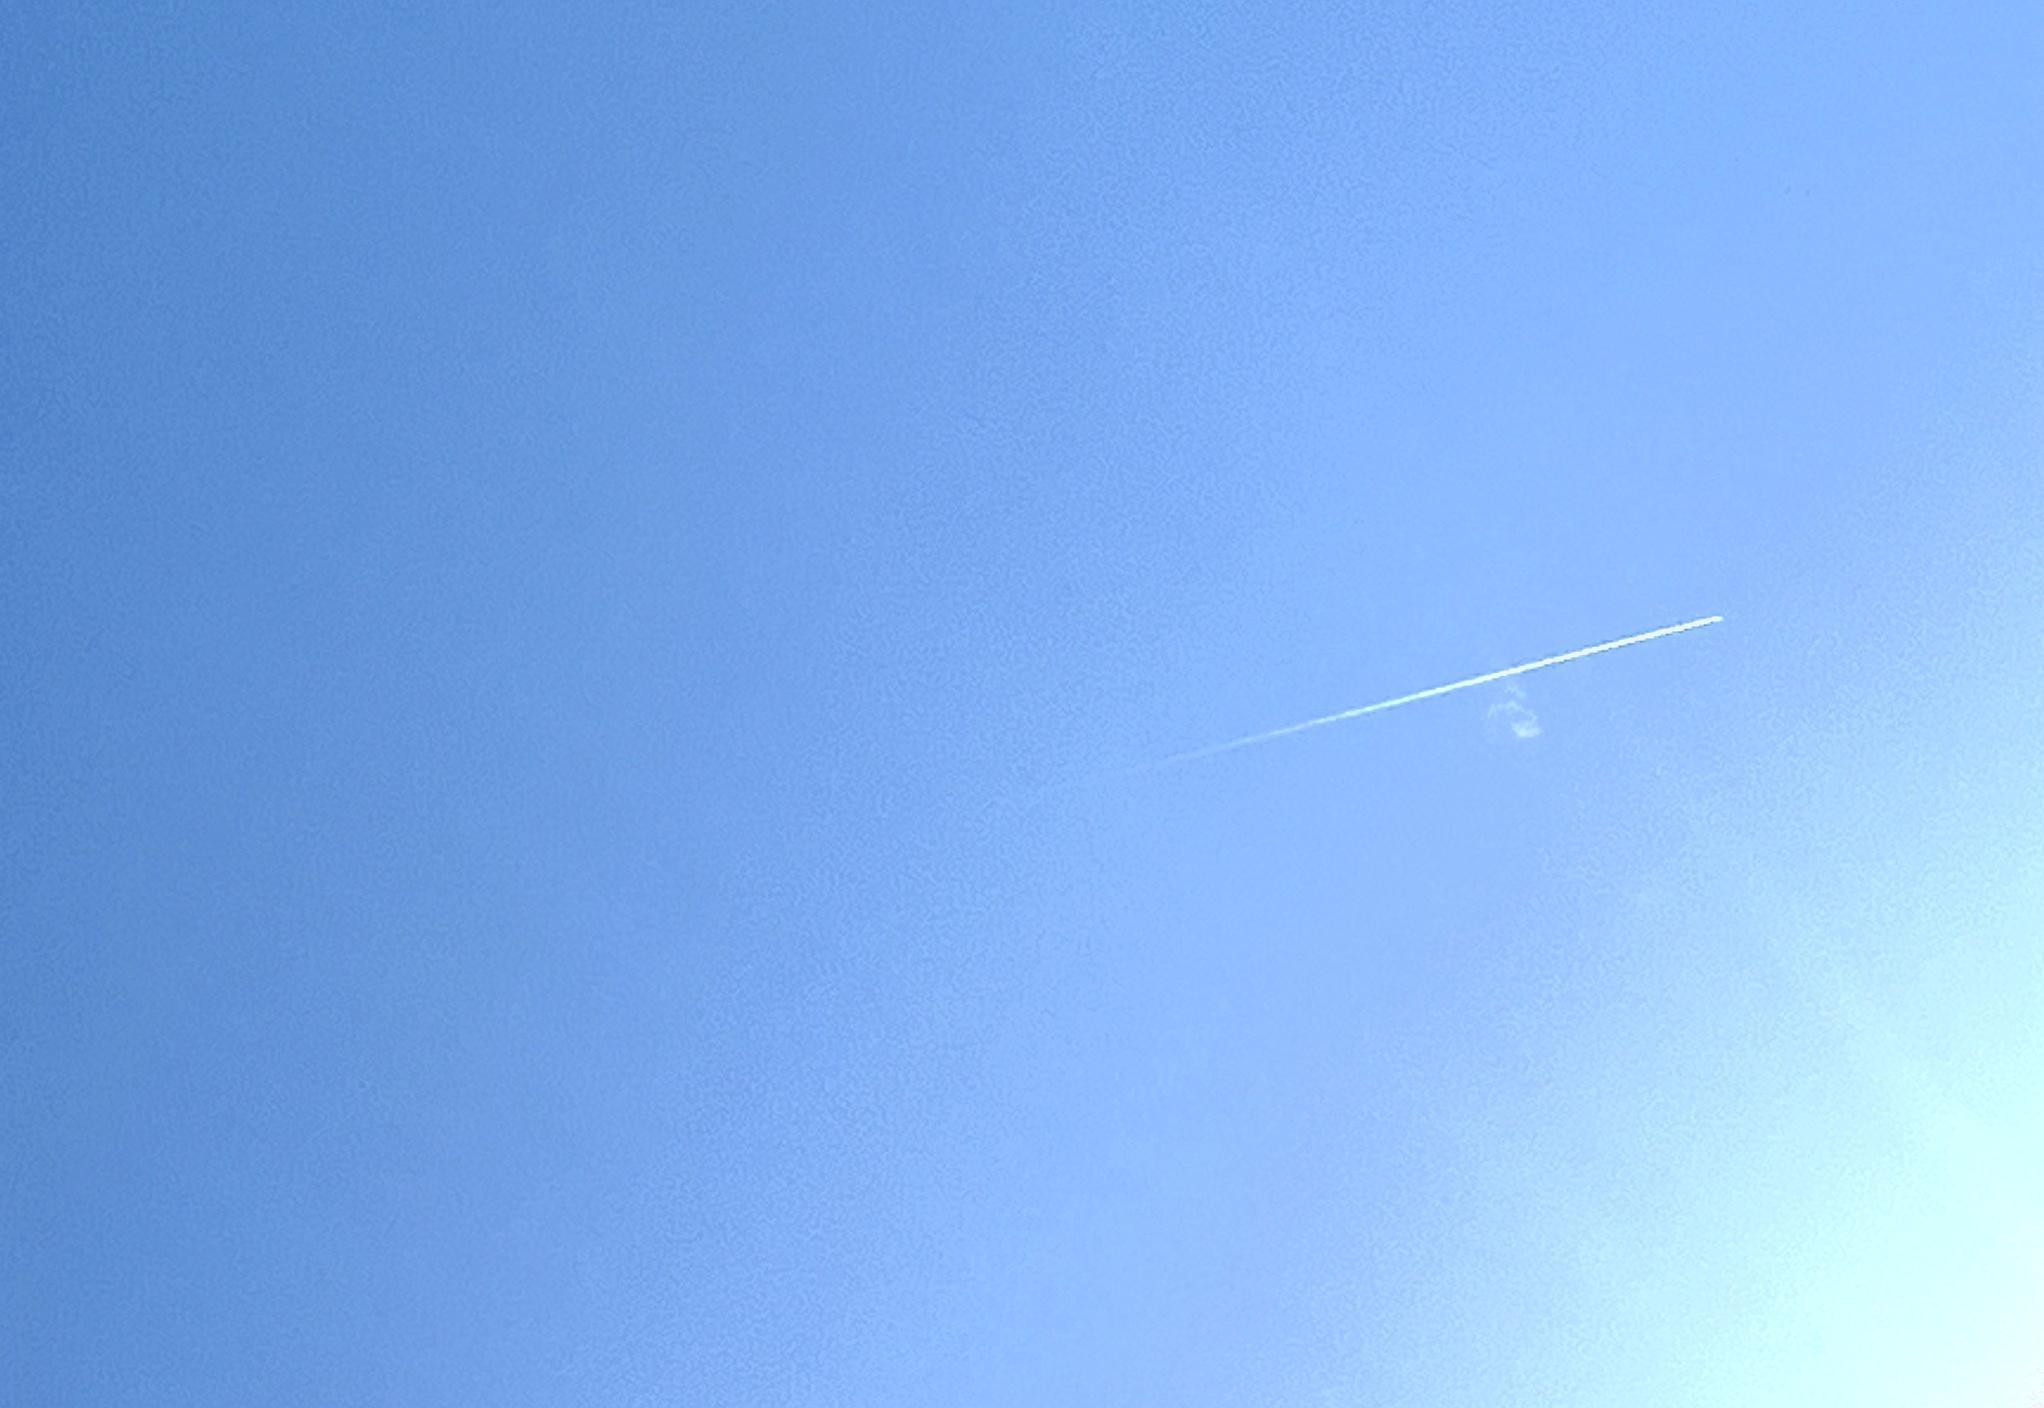Plane: (1146, 587, 1758, 772)
